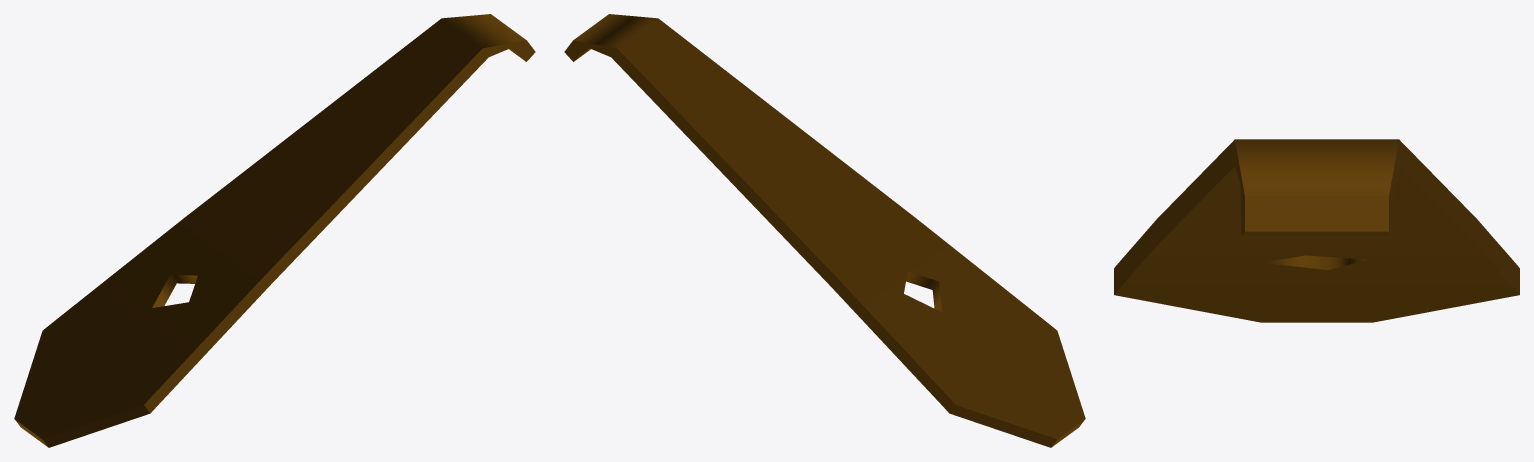
The model's file is Copie de Piece pour moulin^Copie de ASS Moulin_Horloge Comtoise Verge - Sonnerie.obj.
3 views of the same model, side by side, from view 1: azimuth 30°, elevation 25°; view 2: azimuth 150°, elevation 25°; view 3: azimuth 270°, elevation 25° (orthographic). The views are drawn at different scales.
Parts seen in each view (by area): view 1: Face_8, Face_10, Face_16, Face_5, Face_9, Face_14, Face_7; view 2: Face_8, Face_10, Face_16, Face_3, Face_9, Face_13, Face_7; view 3: Face_2, Face_9, Face_1, Face_6, Face_15, Face_3, Face_5, Face_7, Face_11.
Part boxes in pixels (bbox=[...]): Face_8: bbox=[184, 18, 482, 276]; Face_10: bbox=[51, 218, 262, 397]; Face_16: bbox=[14, 324, 150, 439]; Face_5: bbox=[144, 40, 535, 413]; Face_9: bbox=[442, 14, 526, 48]; Face_14: bbox=[42, 405, 150, 447]; Face_7: bbox=[152, 275, 197, 307]; Face_8: bbox=[617, 18, 915, 276]; Face_10: bbox=[837, 218, 1048, 397]; Face_16: bbox=[949, 324, 1085, 439]; Face_3: bbox=[564, 40, 955, 413]; Face_9: bbox=[573, 14, 657, 48]; Face_13: bbox=[949, 405, 1057, 447]; Face_7: bbox=[906, 271, 941, 311]; Face_2: bbox=[1117, 245, 1516, 291]; Face_9: bbox=[1235, 139, 1398, 195]; Face_1: bbox=[1157, 166, 1476, 245]; Face_6: bbox=[1114, 292, 1519, 322]; Face_15: bbox=[1245, 195, 1388, 231]; Face_3: bbox=[1389, 139, 1519, 294]; Face_5: bbox=[1114, 139, 1244, 294]; Face_7: bbox=[1262, 255, 1367, 270]; Face_11: bbox=[1242, 231, 1391, 235].
Bounding box in the file's own units: 0.0251 × 0.0147 × 0.009.
